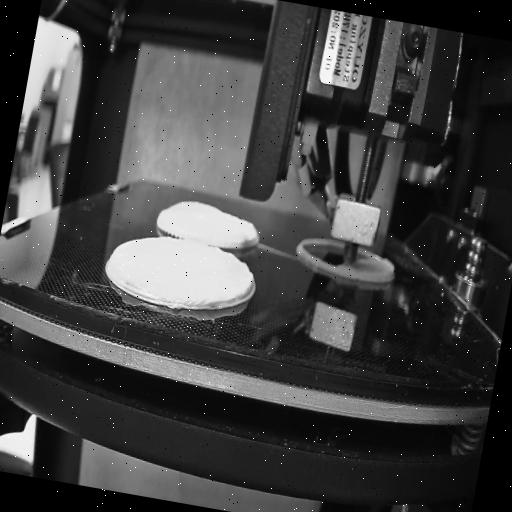over_extrusion: (233, 269, 255, 303)
